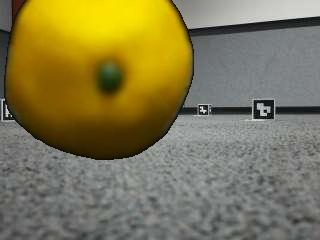lemon: (9, 0, 192, 160)
